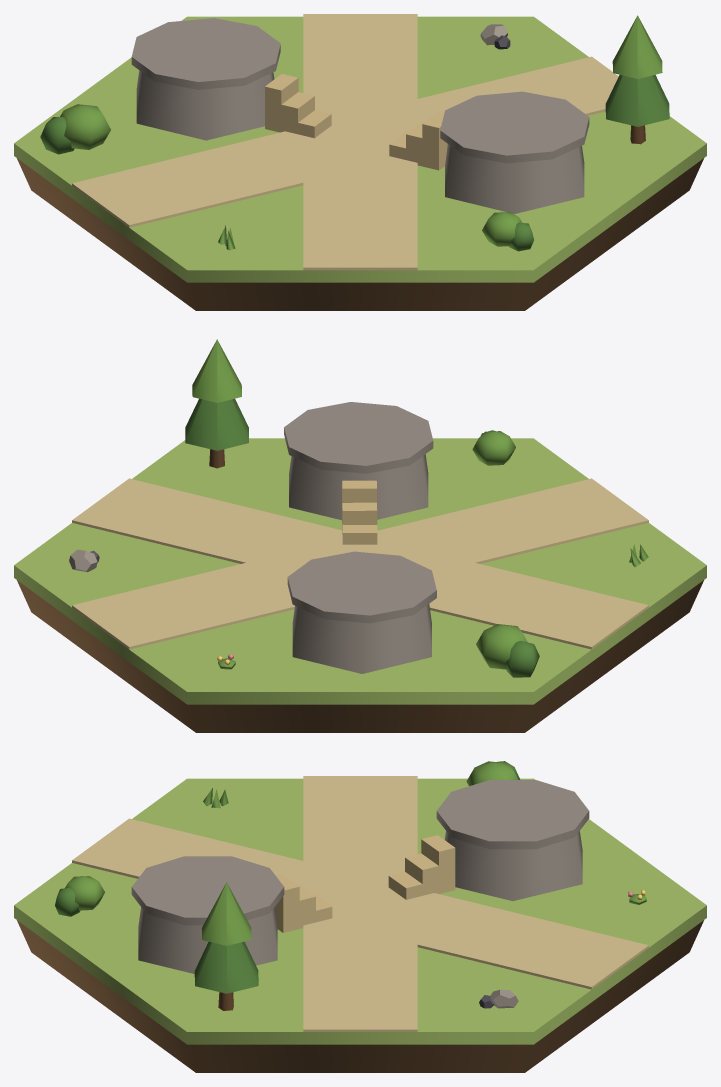
The model's file is tile_signalCross.glb.
3 renders of one model, top to bottom at view 1: azimuth 30°, elevation 25°; view 2: azimuth 150°, elevation 25°; view 3: azimuth 270°, elevation 25°, orthographic.
Parts seen in each view (by area): view 1: ground, road, ground_soil, tower_slot_1_plate, tower_slot_2_plate, tower_slot_2_podest, tower_slot_1_podest, tower_slot_1, deco_tree_3_crown, tower_slot_2, road_hub, deco_tree_3_crown_b (+4 smaller); view 2: ground, road, ground_soil, tower_slot_1_plate, tower_slot_2_plate, tower_slot_1_podest, tower_slot_2_podest, deco_tree_3_crown, tower_slot_2, deco_tree_3_crown_b, deco_bush_0_a, deco_bush_5_a (+1 smaller); view 3: ground, road, ground_soil, tower_slot_1_plate, tower_slot_2_plate, tower_slot_1_podest, tower_slot_2_podest, tower_slot_1, deco_tree_3_crown, tower_slot_2, deco_tree_3_crown_b, road_hub (+3 smaller).
Part boxes in pixels (box(x1,y1,x2,y2)): ground: box(14, 16, 706, 282); road: box(72, 14, 618, 270); ground_soil: box(17, 158, 703, 310); tower_slot_1_plate: box(131, 18, 280, 89); tower_slot_2_plate: box(440, 91, 589, 163); tower_slot_2_podest: box(445, 144, 584, 213); tower_slot_1_podest: box(136, 70, 274, 140); tower_slot_1: box(265, 74, 331, 138); deco_tree_3_crown: box(605, 74, 669, 126); tower_slot_2: box(389, 111, 447, 170); road_hub: box(307, 117, 401, 164); deco_tree_3_crown_b: box(612, 15, 662, 78); ground: box(14, 438, 706, 704); road: box(72, 478, 648, 649); ground_soil: box(17, 580, 703, 732); tower_slot_1_plate: box(287, 551, 436, 623); tower_slot_2_plate: box(284, 402, 433, 473); tower_slot_1_podest: box(292, 604, 431, 673); tower_slot_2_podest: box(289, 454, 428, 520); deco_tree_3_crown: box(185, 398, 248, 450); tower_slot_2: box(342, 480, 377, 544); deco_tree_3_crown_b: box(192, 339, 241, 402); deco_bush_0_a: box(476, 624, 527, 669); deco_bush_5_a: box(472, 431, 515, 465); ground: box(14, 778, 706, 1044); road: box(72, 776, 648, 1031); ground_soil: box(17, 920, 703, 1072); tower_slot_1_plate: box(436, 780, 589, 849); tower_slot_2_plate: box(131, 856, 284, 925); tower_slot_1_podest: box(444, 831, 582, 900); tower_slot_2_podest: box(138, 907, 277, 973); tower_slot_1: box(388, 835, 455, 899); deco_tree_3_crown: box(194, 941, 258, 993); tower_slot_2: box(275, 874, 332, 932); deco_tree_3_crown_b: box(201, 882, 251, 945); road_hub: box(310, 881, 416, 926).
Bounding box in the file's own units: 1.73 × 0.5508 × 2.
